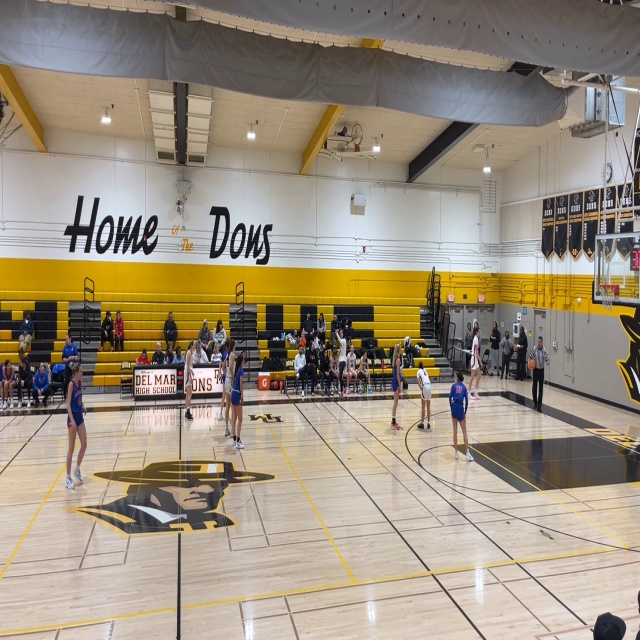Basketball: (528, 359, 536, 371)
